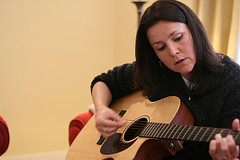guitar: (65, 89, 240, 160)
